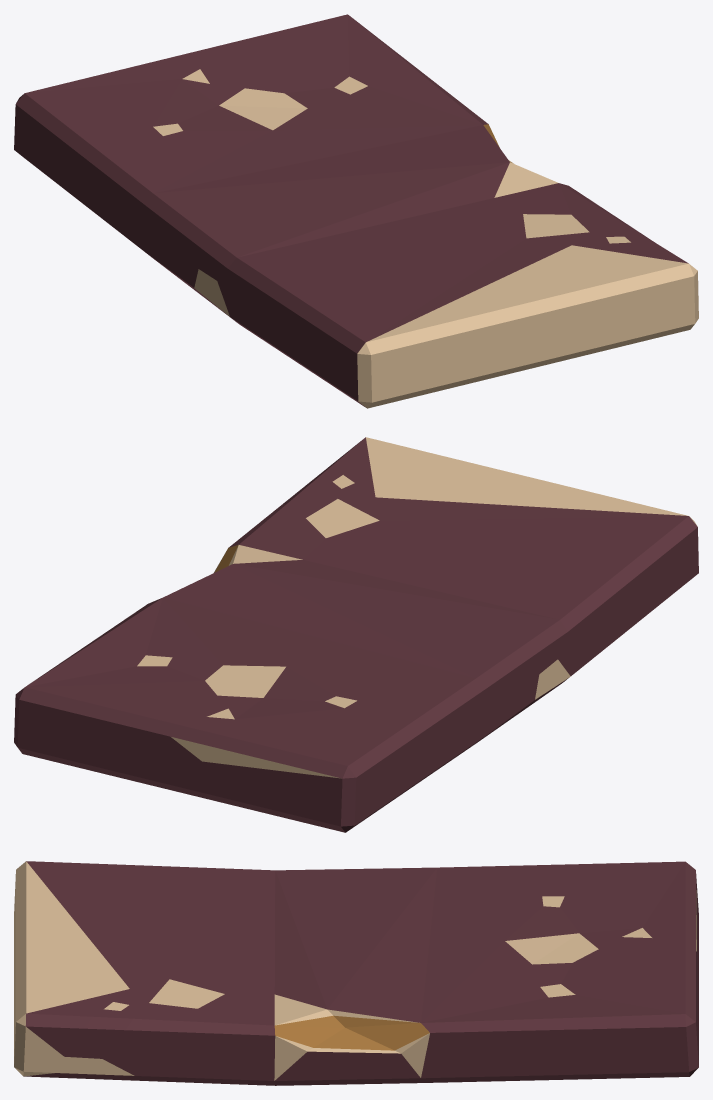
File: apocalypse-mattress-small-dirt.glb
3 renders of one model, top to bottom at view 1: azimuth 30°, elevation 25°; view 2: azimuth 150°, elevation 25°; view 3: azimuth 270°, elevation 25°, orthographic. The views are drawn at different scales.
Visible parts, largest first — view 1: mattress-small-dirt; view 2: mattress-small-dirt; view 3: mattress-small-dirt.
Part boxes in pixels (x1,y1,x2,y2): mattress-small-dirt: (14,14,698,408); mattress-small-dirt: (14,437,698,832); mattress-small-dirt: (14,861,698,1085).
Bounding box in the file's own units: 1 × 0.2098 × 1.8.
